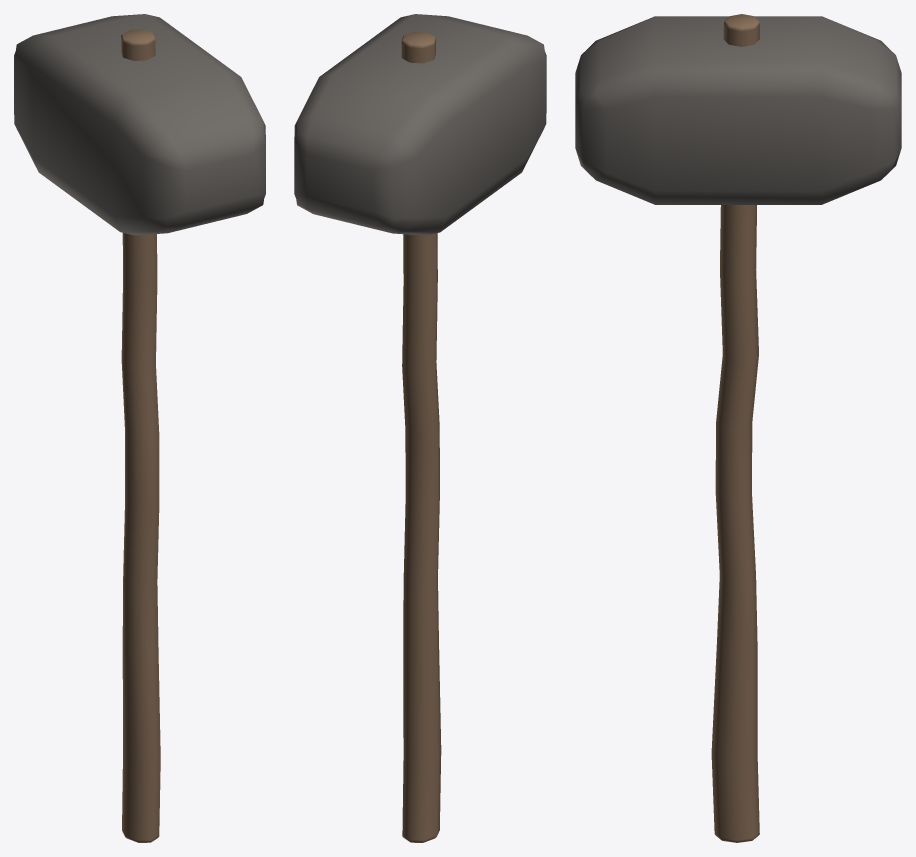
The model's file is hammer.fbx.
The picture shows the model from 3 angles, left to right: view 1: azimuth 30°, elevation 25°; view 2: azimuth 150°, elevation 25°; view 3: azimuth 270°, elevation 25°; orthographic projection. The views are drawn at different scales.
Parts seen in each view (by area): view 1: HammerHead, Shaft; view 2: HammerHead, Shaft; view 3: HammerHead, Shaft.
Boxes of the visible parts, left/top/right/bottom form: HammerHead: left=14, top=14, right=265, bottom=235; Shaft: left=121, top=29, right=160, bottom=842; HammerHead: left=294, top=14, right=546, bottom=235; Shaft: left=401, top=31, right=441, bottom=842; HammerHead: left=575, top=16, right=901, bottom=204; Shaft: left=711, top=14, right=759, bottom=842.
Bounding box in the file's own units: 13 × 74.37 × 26.97.
